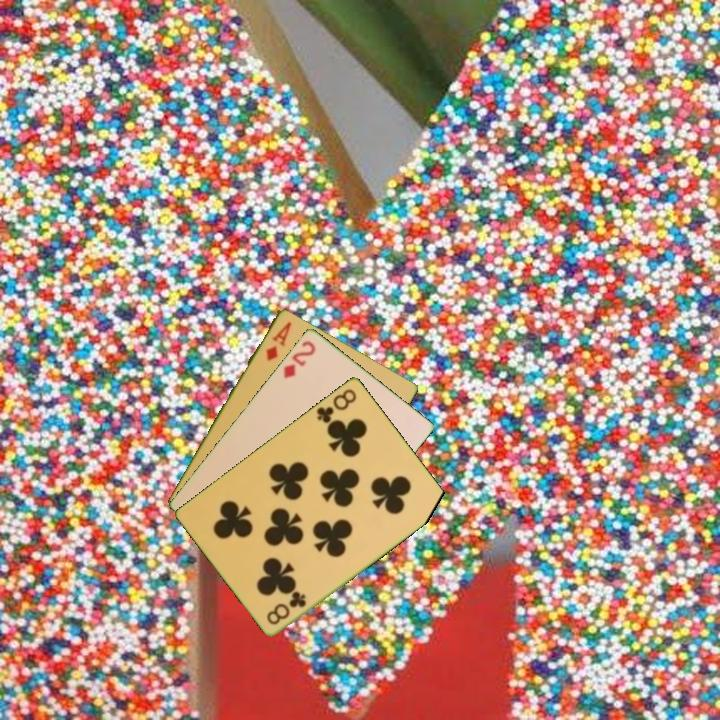2d: (280, 336, 318, 381)
8c: (313, 385, 360, 426), (263, 588, 309, 627)
Ad: (262, 318, 294, 363)
